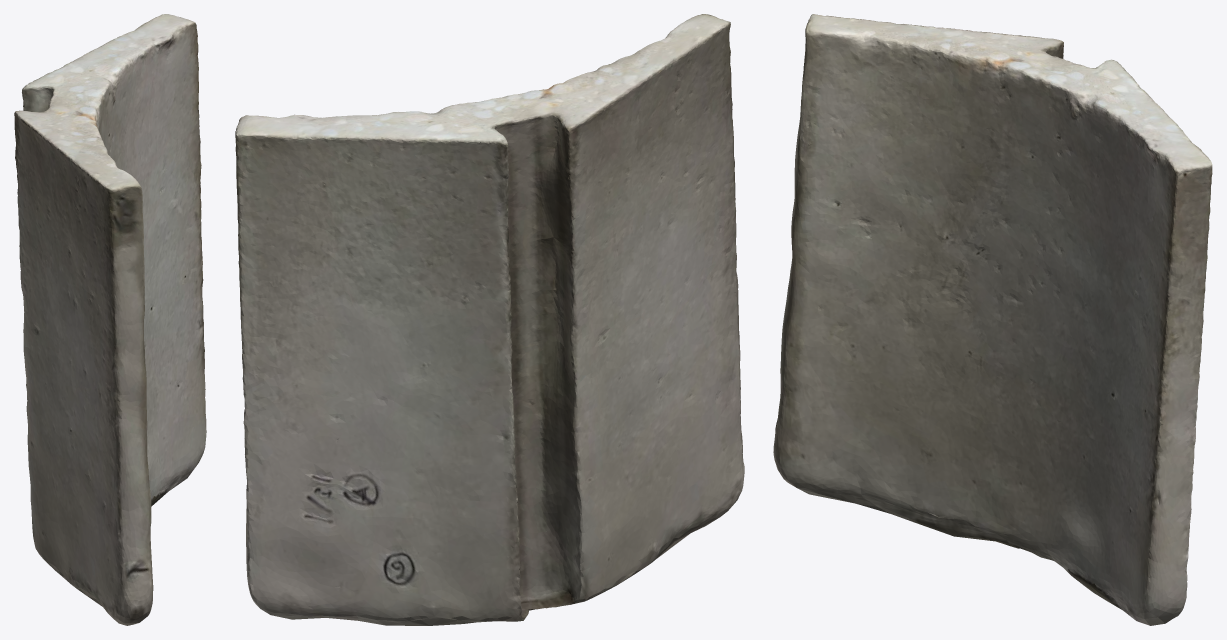
Rendered from Basement 2.glb.
3 renders of one model, left to right at view 1: azimuth 30°, elevation 25°; view 2: azimuth 150°, elevation 25°; view 3: azimuth 270°, elevation 25°, orthographic. The views are drawn at different scales.
Bounding box in the file's own units: 0.1528 × 0.2618 × 0.209.
1 material, 1 textured.
